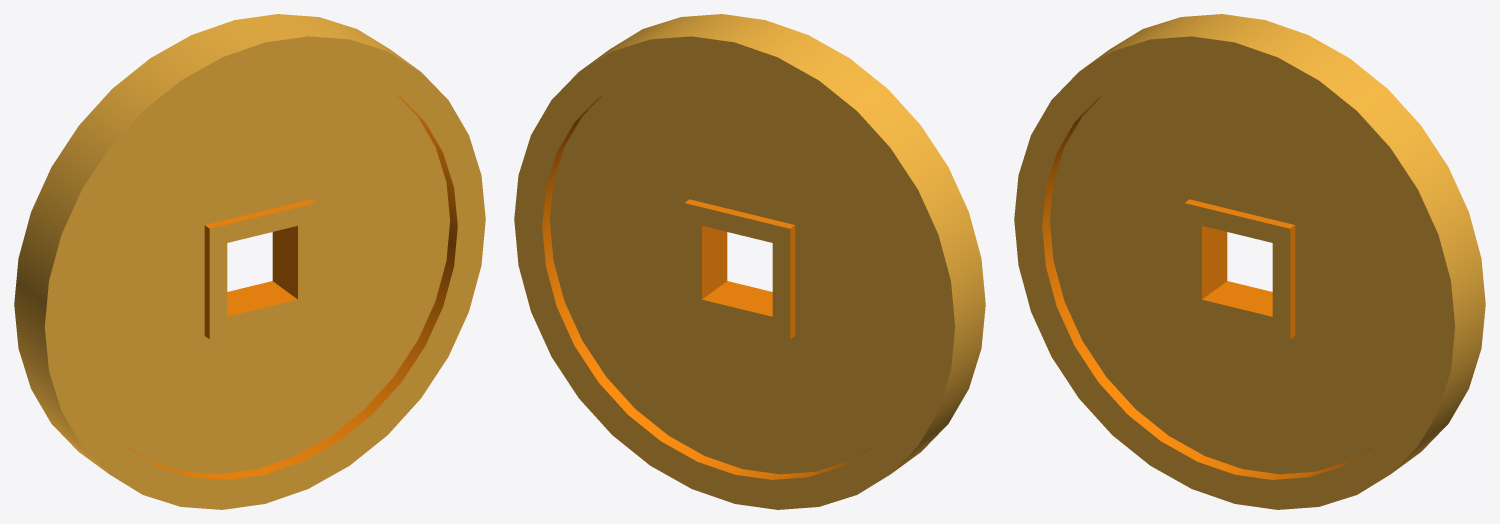
File: muenze.FBX
3 renders of one model, left to right at view 1: azimuth 30°, elevation 25°; view 2: azimuth 150°, elevation 25°; view 3: azimuth 330°, elevation 25°, orthographic.
Visible parts, largest first — view 1: muenze; view 2: muenze; view 3: muenze.
Boxes of the visible parts, bbox=[...] form: muenze: bbox=[14, 14, 485, 509]; muenze: bbox=[514, 14, 985, 509]; muenze: bbox=[1014, 14, 1485, 509].
Size of the model in its own units: 0.5 by 0.5 by 0.06.
